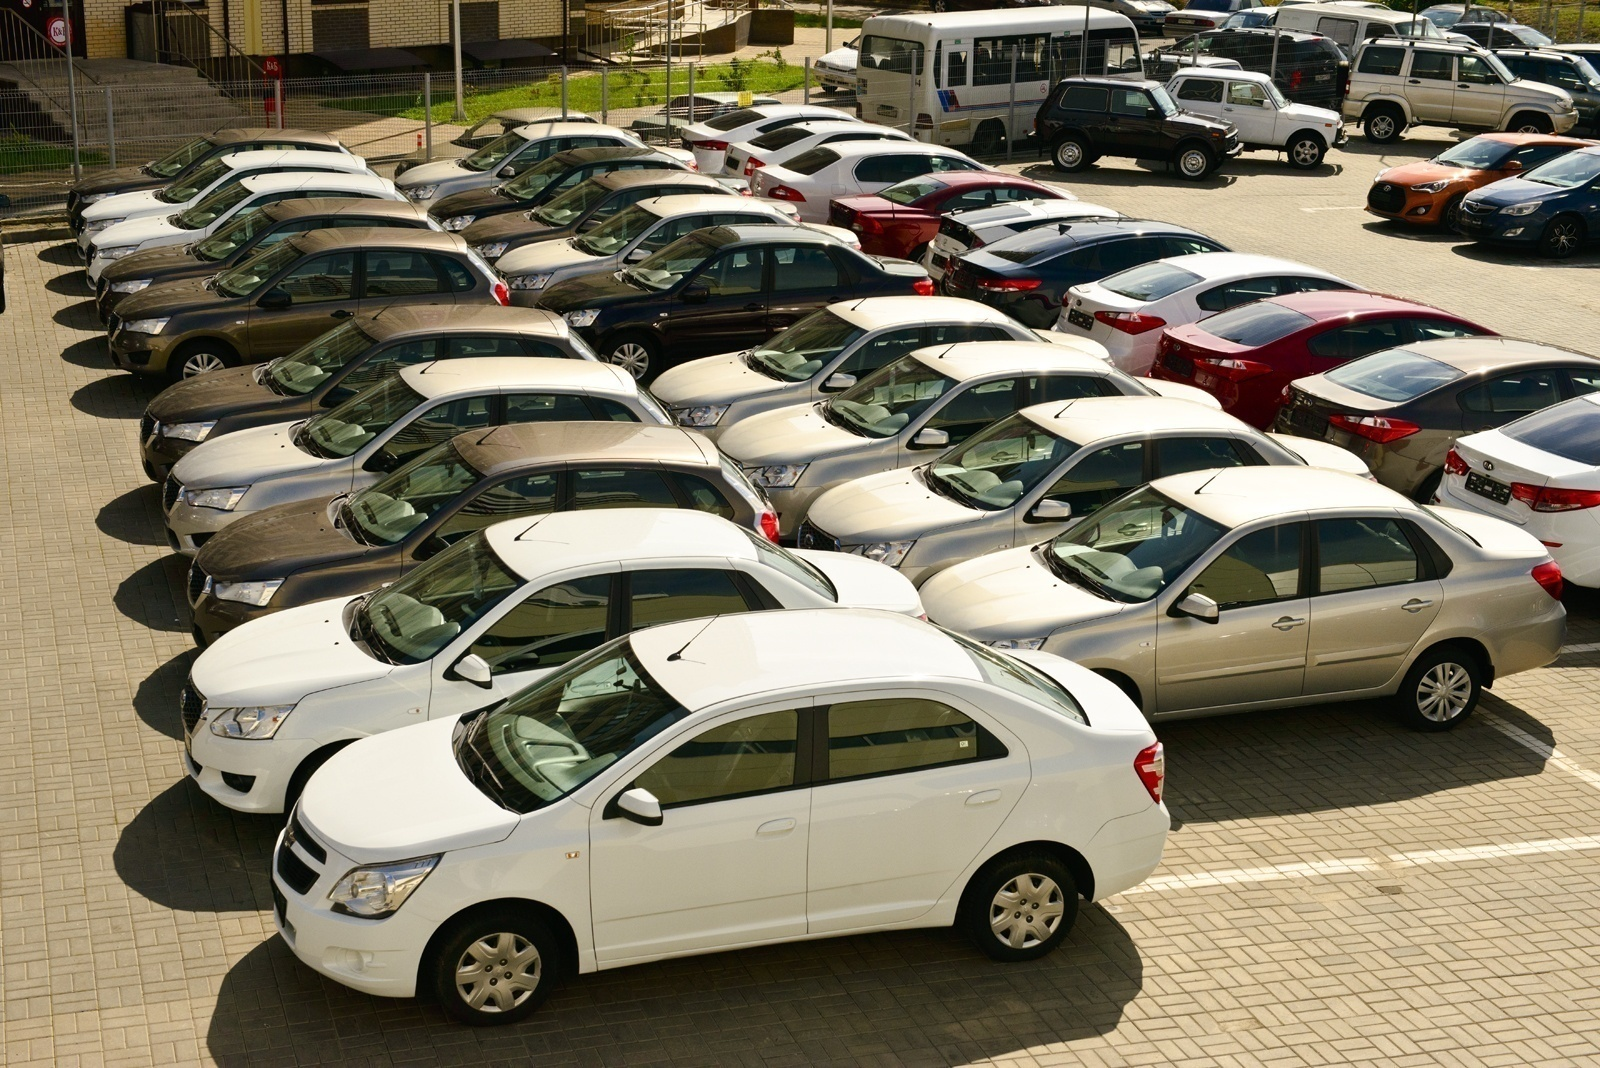Car: (272, 609, 1168, 1024), (180, 509, 924, 813), (922, 465, 1565, 731), (187, 420, 779, 645), (797, 396, 1374, 584), (717, 341, 1224, 540), (162, 358, 673, 553), (141, 304, 597, 482), (650, 294, 1114, 441), (534, 224, 935, 380), (105, 226, 511, 380), (1275, 335, 1600, 499), (1151, 288, 1501, 428), (855, 5, 1146, 154), (97, 197, 446, 319), (493, 193, 861, 305), (86, 170, 406, 288), (1056, 252, 1359, 375), (76, 150, 379, 260), (936, 218, 1234, 329), (1431, 393, 1600, 588), (459, 169, 802, 262), (67, 129, 351, 229), (428, 147, 753, 234), (394, 122, 699, 210), (1340, 35, 1582, 145), (1364, 132, 1593, 232), (826, 170, 1078, 261), (1032, 76, 1244, 180), (751, 141, 1001, 221), (1168, 67, 1349, 169), (924, 199, 1132, 282), (1455, 145, 1600, 257), (1151, 25, 1349, 103), (393, 107, 602, 179), (1220, 2, 1444, 61), (679, 105, 863, 174), (724, 120, 917, 180), (1487, 44, 1600, 135), (631, 92, 784, 144), (1163, 0, 1266, 42), (1065, 0, 1178, 35), (1143, 51, 1244, 86), (813, 35, 859, 94), (1417, 4, 1517, 31), (1446, 21, 1555, 45), (1536, 43, 1600, 73), (928, 0, 1052, 13), (0, 192, 11, 313), (1325, 0, 1394, 11), (1442, 32, 1478, 44), (1268, 0, 1321, 7), (620, 128, 642, 141), (1326, 100, 1341, 111)
